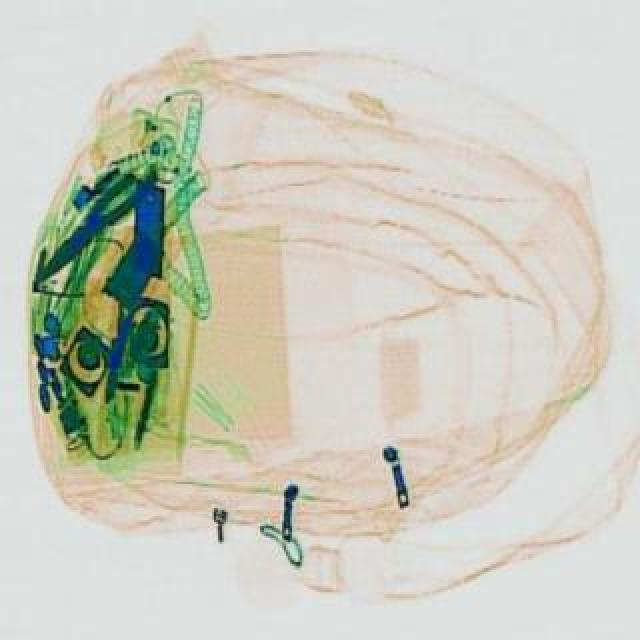wrench: (28, 168, 148, 286)
